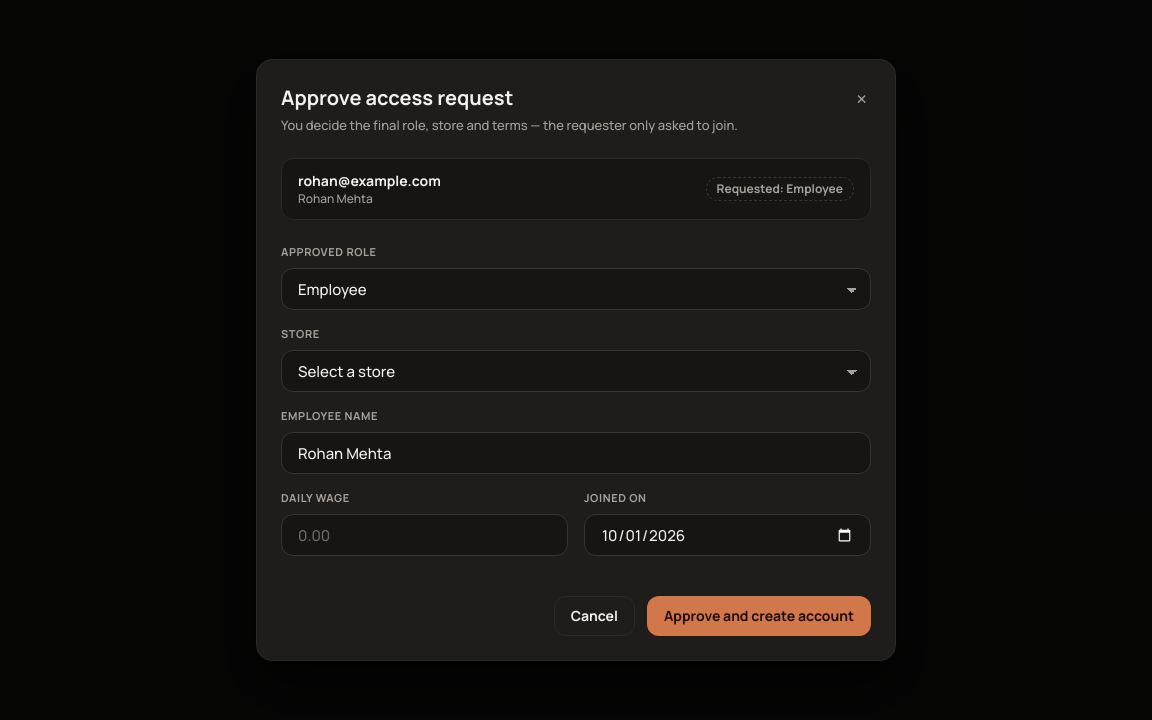
Test case: access request approval form › requires a positive daily wage for an employee approval
Select "Koramangala" in the dropdown labelled "Store" at (576, 371), box top-left (281, 350), bottom-right (871, 392)
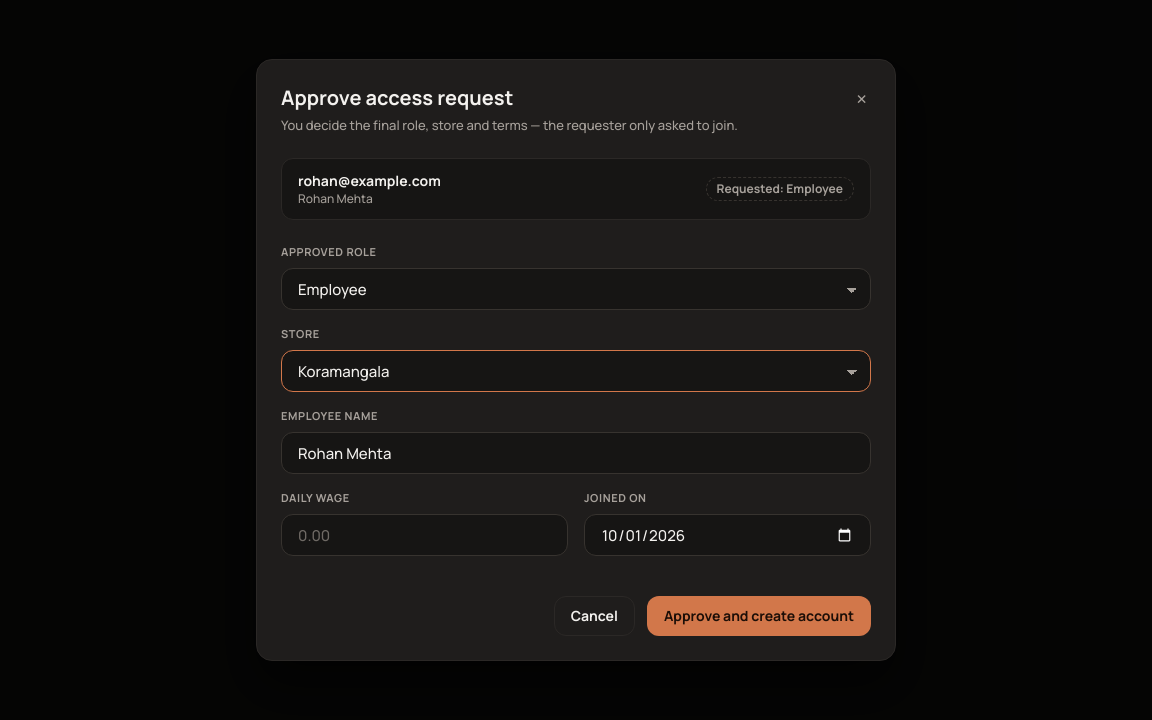
Click the button "Approve and create account" at (759, 616), box top-left (647, 596), bottom-right (871, 636)
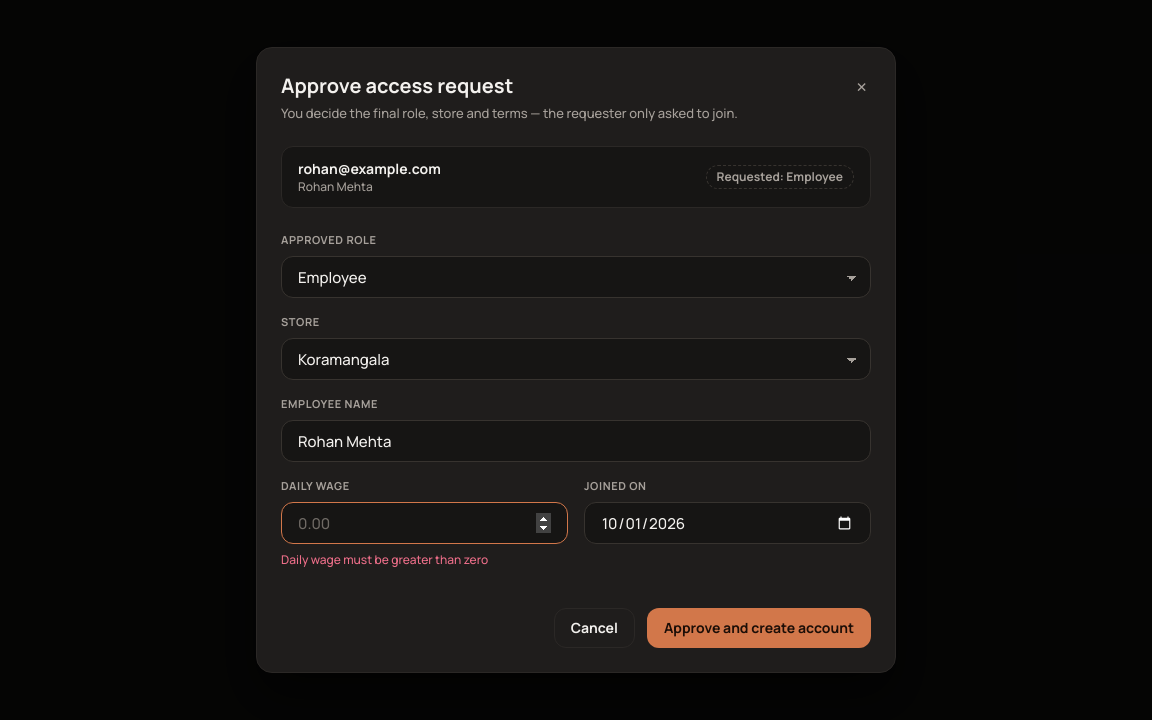
Expected: the text "Daily wage must be greater than zero" is shown, top-left (281, 551), bottom-right (488, 568)
